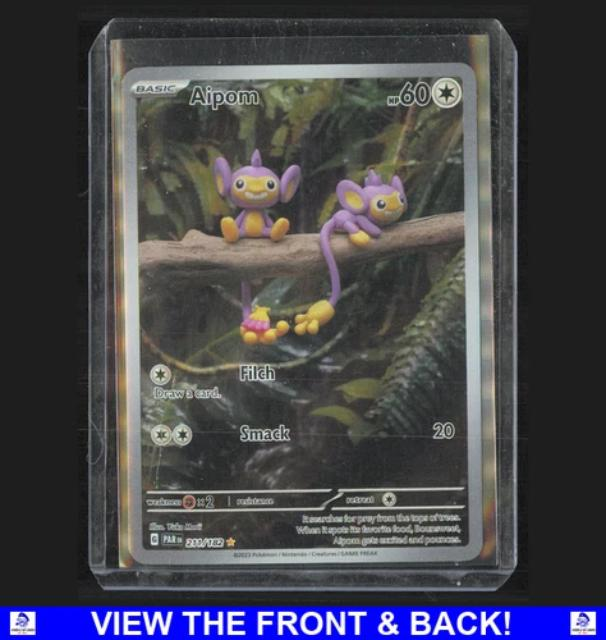Card: (114, 59, 488, 568)
Name: (184, 81, 264, 110)
